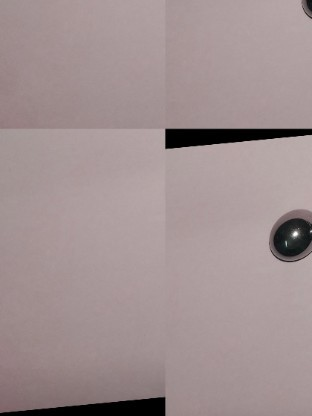ironball: (267, 207, 310, 269)
